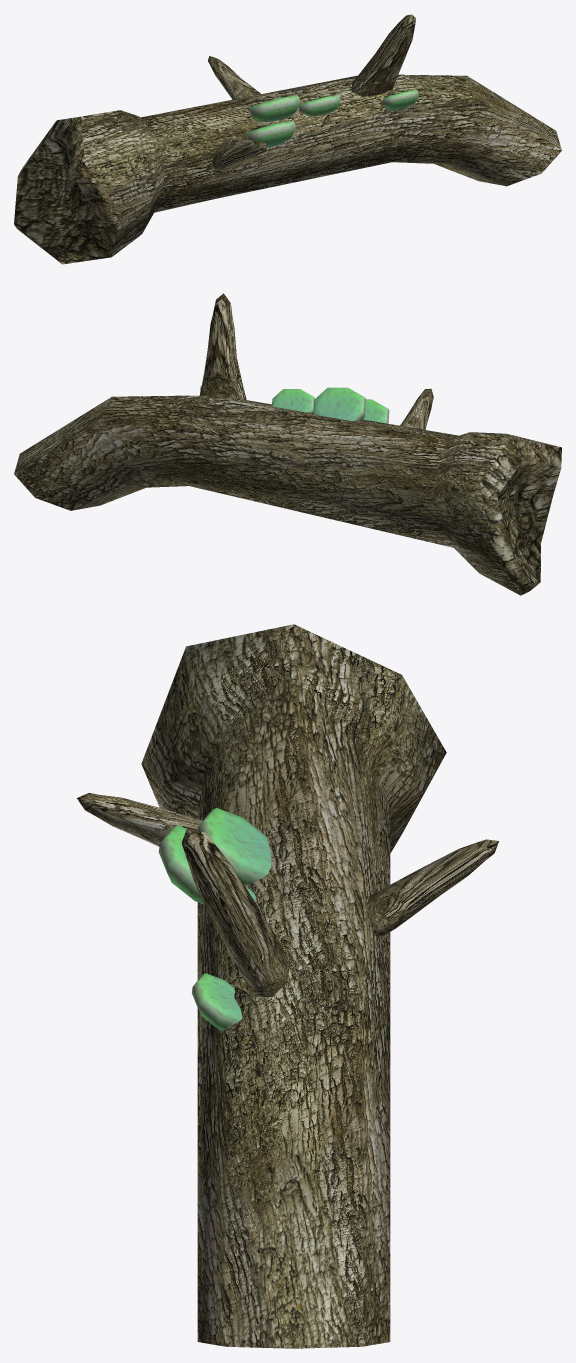
The model's file is log-with-mushrooms.fbx.
3 renders of one model, top to bottom at view 1: azimuth 30°, elevation 25°; view 2: azimuth 150°, elevation 25°; view 3: azimuth 270°, elevation 25°, orthographic. The views are drawn at different scales.
Parts seen in each view (by area): view 1: Log, Branches, Shrooms; view 2: Log, Branches, Shrooms; view 3: Log, Branches, Shrooms.
Boxes of the visible parts, x1,y1,x2,y2 form: Log: [14, 74, 561, 264]; Branches: [208, 14, 415, 169]; Shrooms: [247, 90, 418, 147]; Log: [14, 395, 561, 595]; Branches: [200, 293, 433, 468]; Shrooms: [200, 386, 389, 423]; Log: [141, 624, 446, 1348]; Branches: [77, 793, 498, 996]; Shrooms: [158, 808, 271, 1030].
Bounding box in the file's own units: 55.23 × 21.24 × 19.46.
2 materials, 2 textured.
